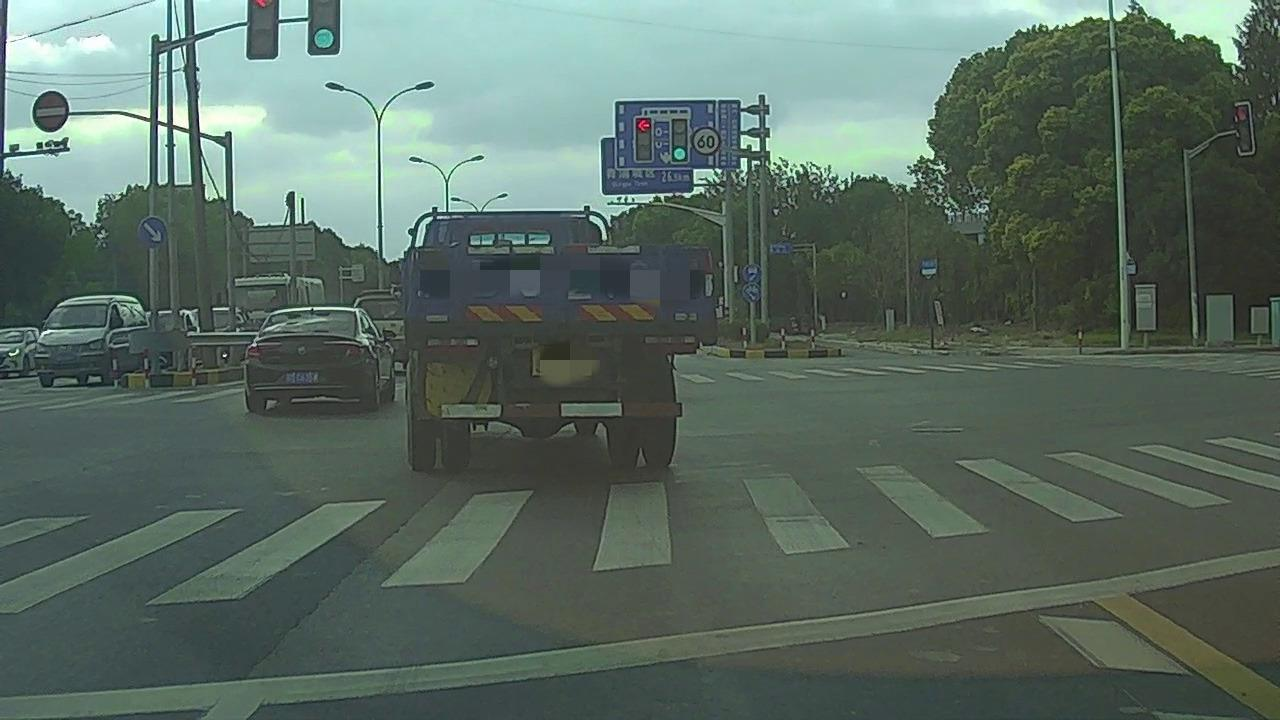traffic_light: (247, 1, 277, 58), (308, 1, 338, 55), (636, 118, 652, 161), (672, 119, 688, 162)
